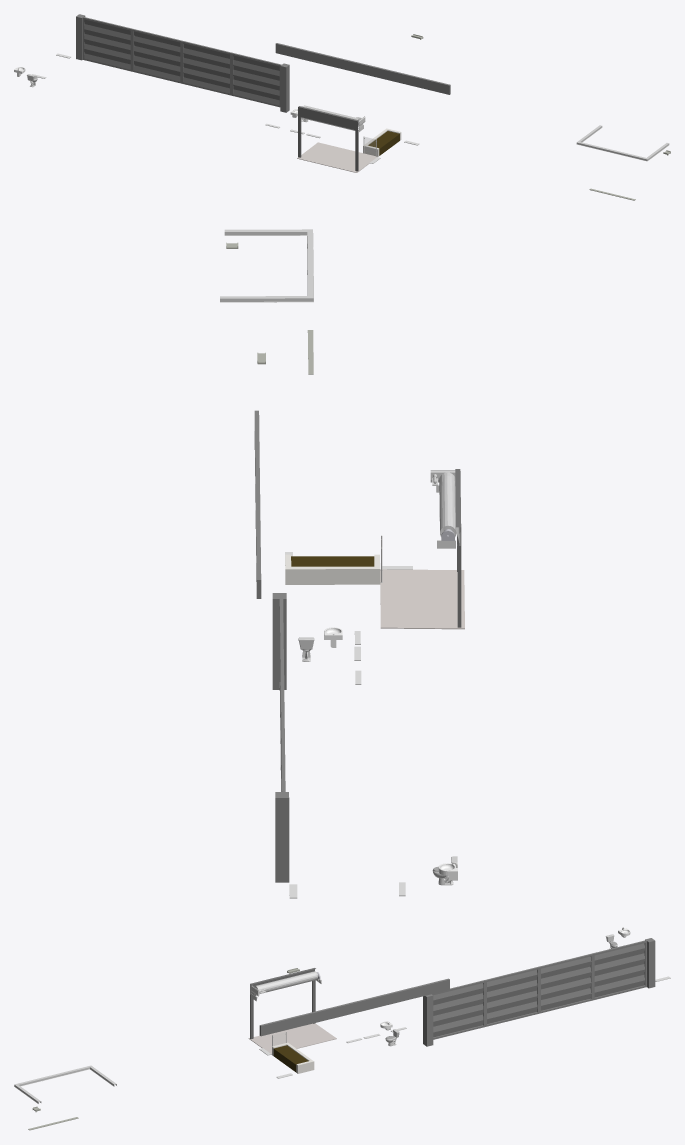
The model's file is pt-103-caseta-control-hq-p01-v00-p02.glb.
3 views of the same model, one above another, from view 1: azimuth 30°, elevation 25°; view 2: azimuth 150°, elevation 25°; view 3: azimuth 270°, elevation 25° (orthographic). The views are drawn at different scales.
Visible parts, largest first — view 1: 3cdYtNpr95Sfb4_H5r_Kv9, 0hdfRIvZr85vkxaPDvO0bm, 1SVhoW0lP7gA55szEID1cn, 0Z8X3h8sv29A0fT6KFJTRQ, 1ioHXYHSbBO9ENx1rFyKBY; view 2: 1SVhoW0lP7gA55szEID1cn, 3cdYtNpr95Sfb4_H5r_Kv9, 0Z8X3h8sv29A0fT6KFJTRQ, 2Djsukomv2DAyk1xCkORZz, 0hdfRIvZr85vkxaPDvO0bm; view 3: 3cdYtNpr95Sfb4_H5r_Kv9, 0hdfRIvZr85vkxaPDvO0bm, 1SVhoW0lP7gA55szEID1cn, 0Z8X3h8sv29A0fT6KFJTRQ, 1ioHXYHSbBO9ENx1rFyKBY, 0wy_4HCtX59h_fuR3z0vaJ.
Part boxes in pixels (x1=…): 3cdYtNpr95Sfb4_H5r_Kv9: x1=76, y1=14, x2=289, y2=112; 0hdfRIvZr85vkxaPDvO0bm: x1=275, y1=43, x2=450, y2=94; 1SVhoW0lP7gA55szEID1cn: x1=297, y1=142, x2=377, y2=172; 0Z8X3h8sv29A0fT6KFJTRQ: x1=298, y1=105, x2=365, y2=171; 1ioHXYHSbBO9ENx1rFyKBY: x1=368, y1=131, x2=399, y2=155; 1SVhoW0lP7gA55szEID1cn: x1=380, y1=569, x2=464, y2=629; 3cdYtNpr95Sfb4_H5r_Kv9: x1=272, y1=593, x2=289, y2=882; 0Z8X3h8sv29A0fT6KFJTRQ: x1=430, y1=469, x2=461, y2=627; 2Djsukomv2DAyk1xCkORZz: x1=285, y1=566, x2=380, y2=584; 0hdfRIvZr85vkxaPDvO0bm: x1=254, y1=410, x2=261, y2=598; 3cdYtNpr95Sfb4_H5r_Kv9: x1=423, y1=938, x2=655, y2=1046; 0hdfRIvZr85vkxaPDvO0bm: x1=259, y1=978, x2=449, y2=1036; 1SVhoW0lP7gA55szEID1cn: x1=248, y1=1023, x2=336, y2=1054; 0Z8X3h8sv29A0fT6KFJTRQ: x1=250, y1=968, x2=321, y2=1039; 1ioHXYHSbBO9ENx1rFyKBY: x1=273, y1=1045, x2=308, y2=1072; 0wy_4HCtX59h_fuR3z0vaJ: x1=15, y1=1065, x2=90, y2=1086.
Size of the model in its own units: 25.78 by 6.55 by 34.75.
